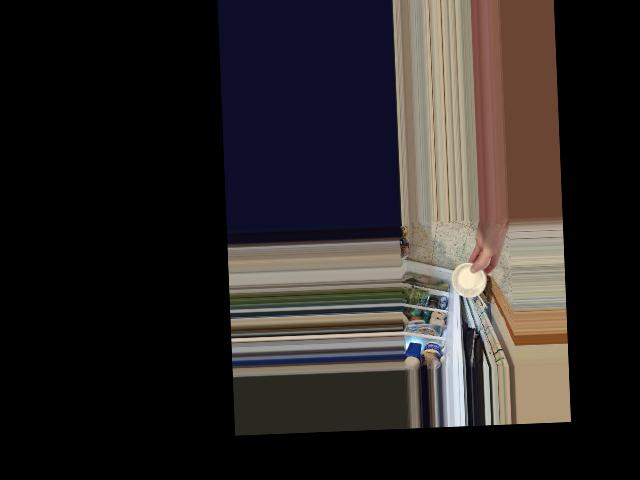cotage: (454, 261, 490, 298)
